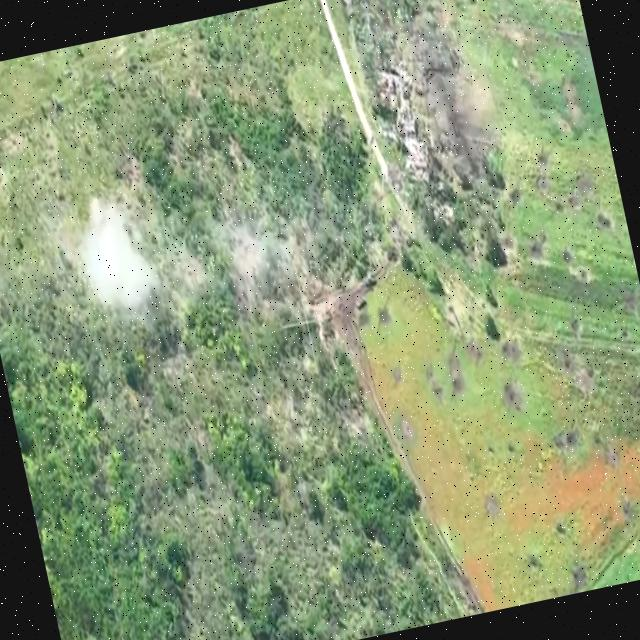AIFV: (353, 293, 370, 314)
MBT: (361, 269, 381, 291)
